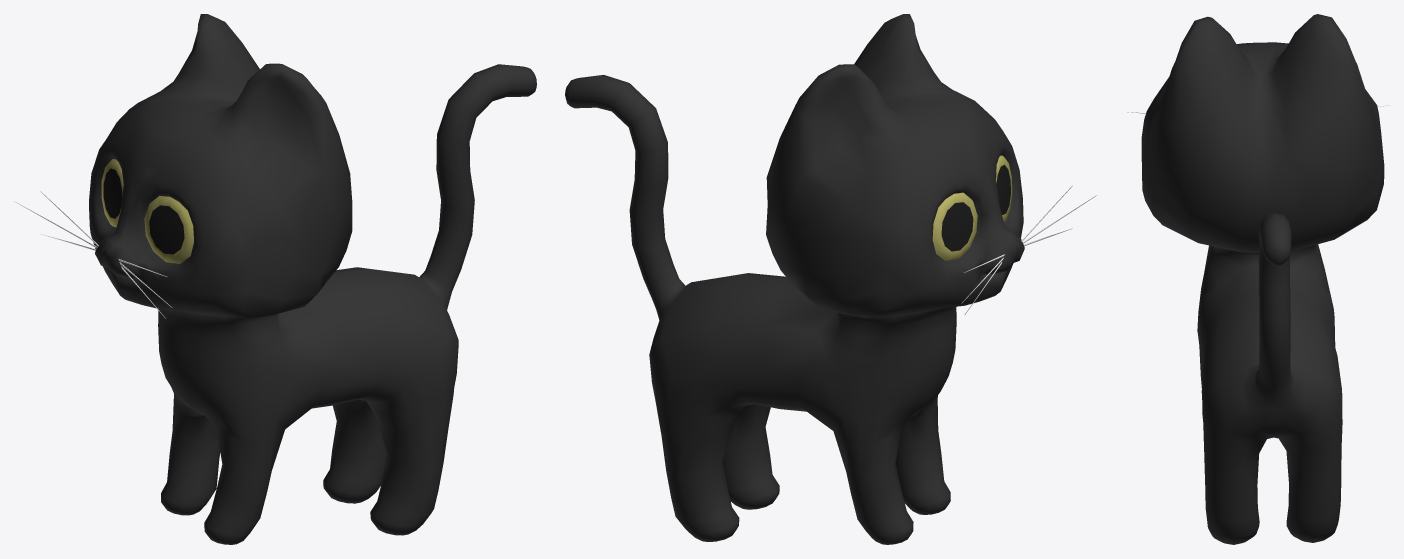
The model's file is gato.fbx.
3 renders of one model, left to right at view 1: azimuth 30°, elevation 25°; view 2: azimuth 150°, elevation 25°; view 3: azimuth 270°, elevation 25°, orthographic. The views are drawn at different scales.
Parts seen in each view (by area): view 1: Cat_body_003; view 2: Cat_body_003; view 3: Cat_body_003.
Boxes of the visible parts, <box> form: Cat_body_003: <box>14,14,536,544</box>; Cat_body_003: <box>565,14,1096,544</box>; Cat_body_003: <box>1127,14,1389,544</box>.
Bounding box in the file's own units: 17.4 × 18.61 × 9.67.
